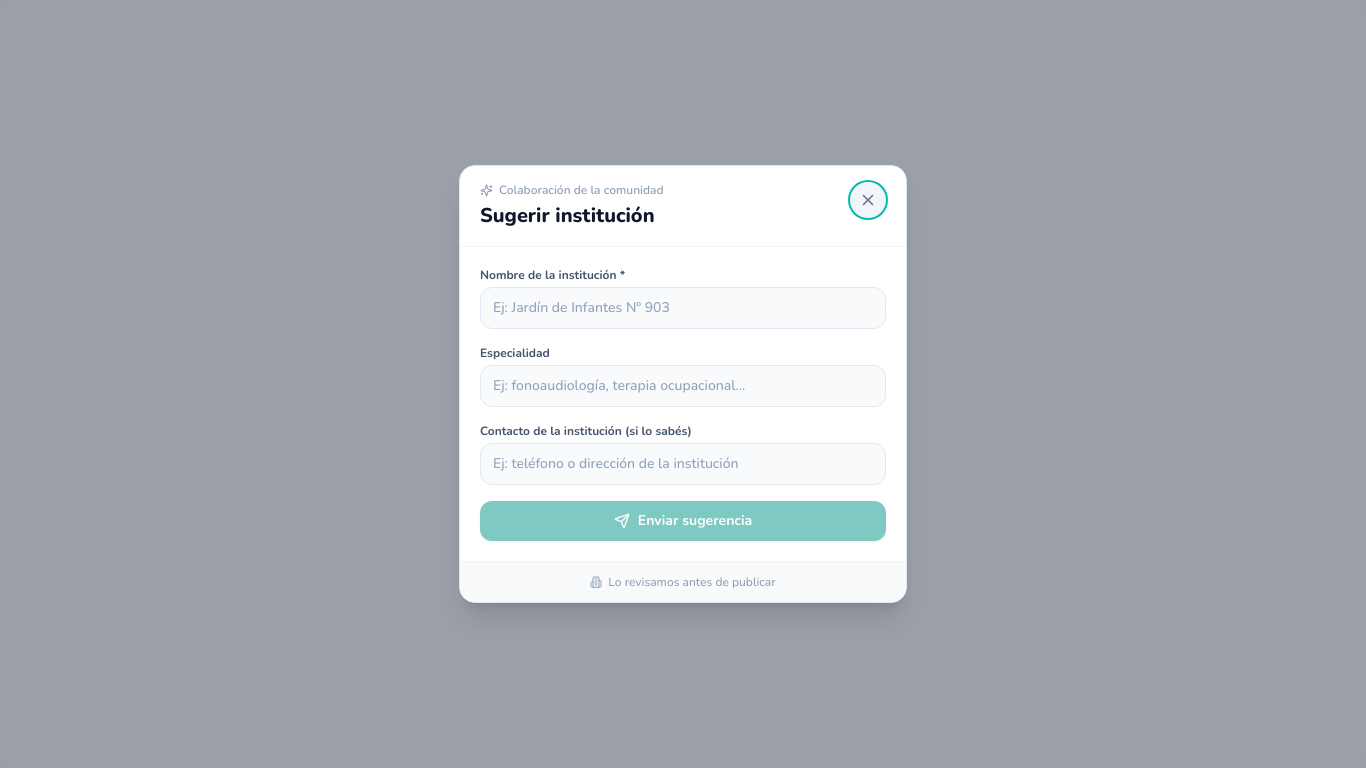
Test: SuggestionModal — robustez y a11y (FR-A11-2) › respuesta HTML del BFF → mensaje de error claro, sin crashear
The width and height of the screenshot is (1366, 768).
In the field labelled "Nombre de la institución *": coordinates (683, 308) [480, 287, 886, 329], type "Jardín Nº 903"
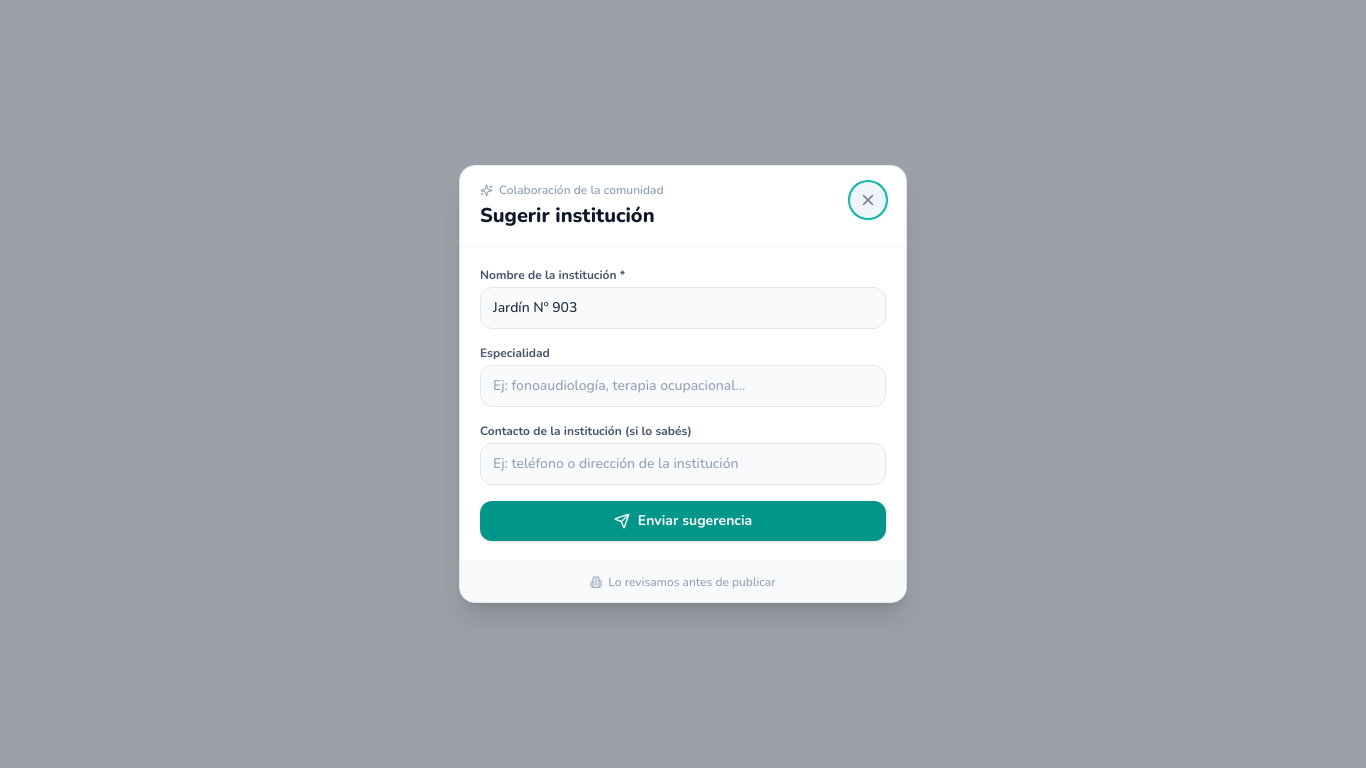
Click the button "Enviar sugerencia": coordinates (683, 521) [480, 501, 886, 541]
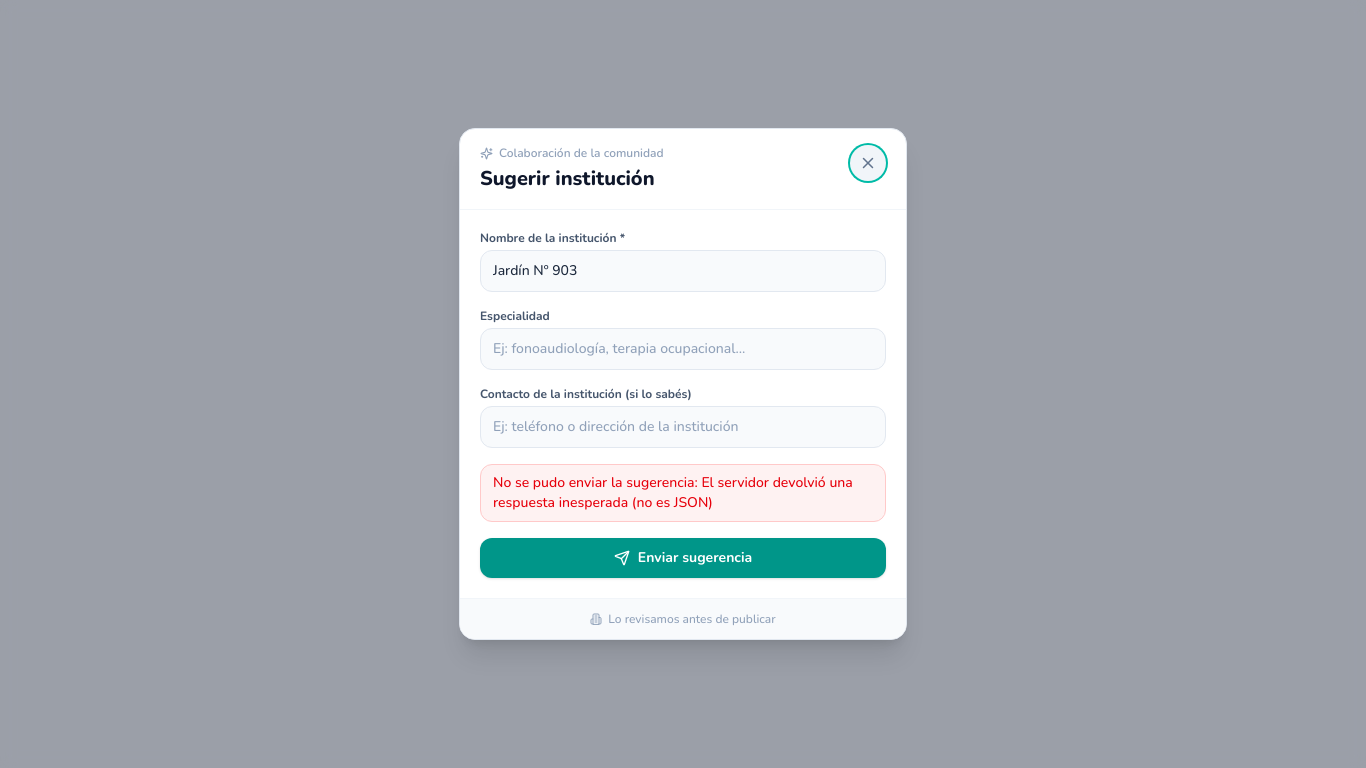
expect the text "No se pudo enviar la sugerencia" is shown: met, box [493, 473, 701, 492]
expect the text "respuesta inesperada (no es JSON)" is shown: met, box [493, 473, 853, 512]
